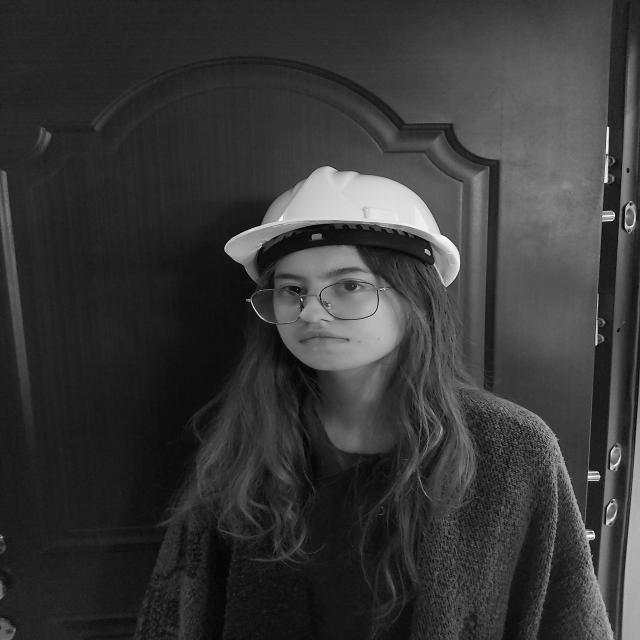safety_helmet: (223, 167, 462, 291)
